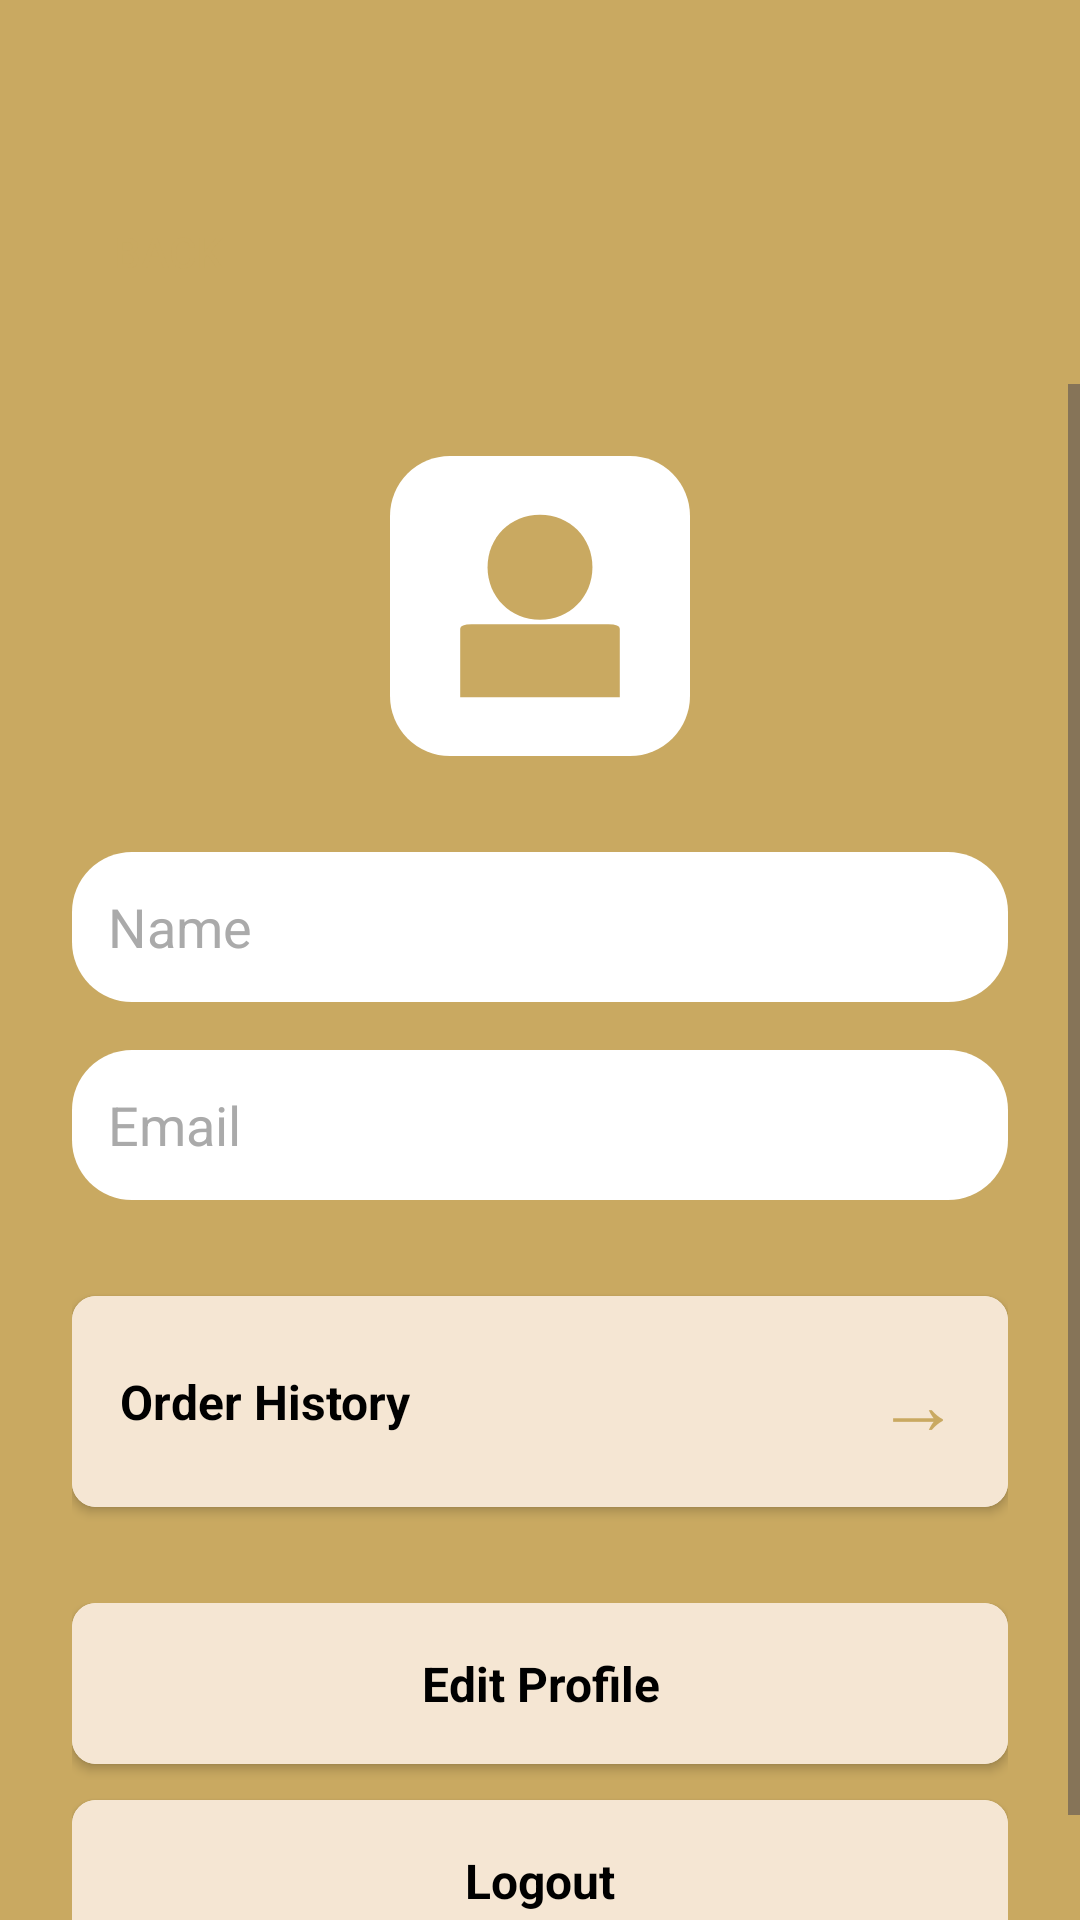

Screen size 1080w x 1920h. Icon name, then its box in pixels as (x1,y1,x2,y2):
Profile Image: (390,456,690,756)
